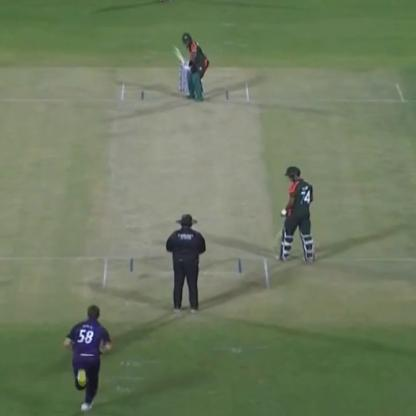bat: (164, 38, 190, 78), (268, 214, 287, 255)
pitch: (108, 80, 272, 300)
